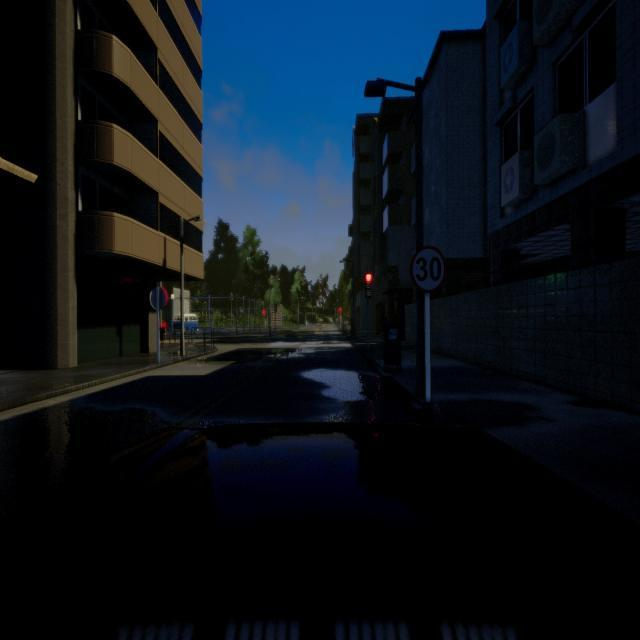Speed Limit -30-: (410, 246, 446, 295)
